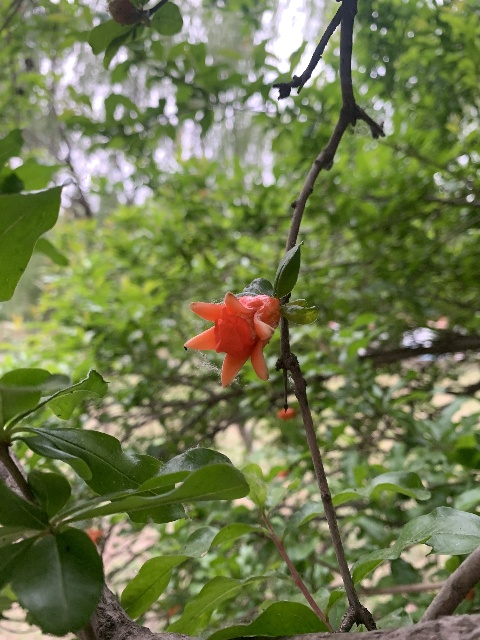flower: (184, 290, 279, 387)
